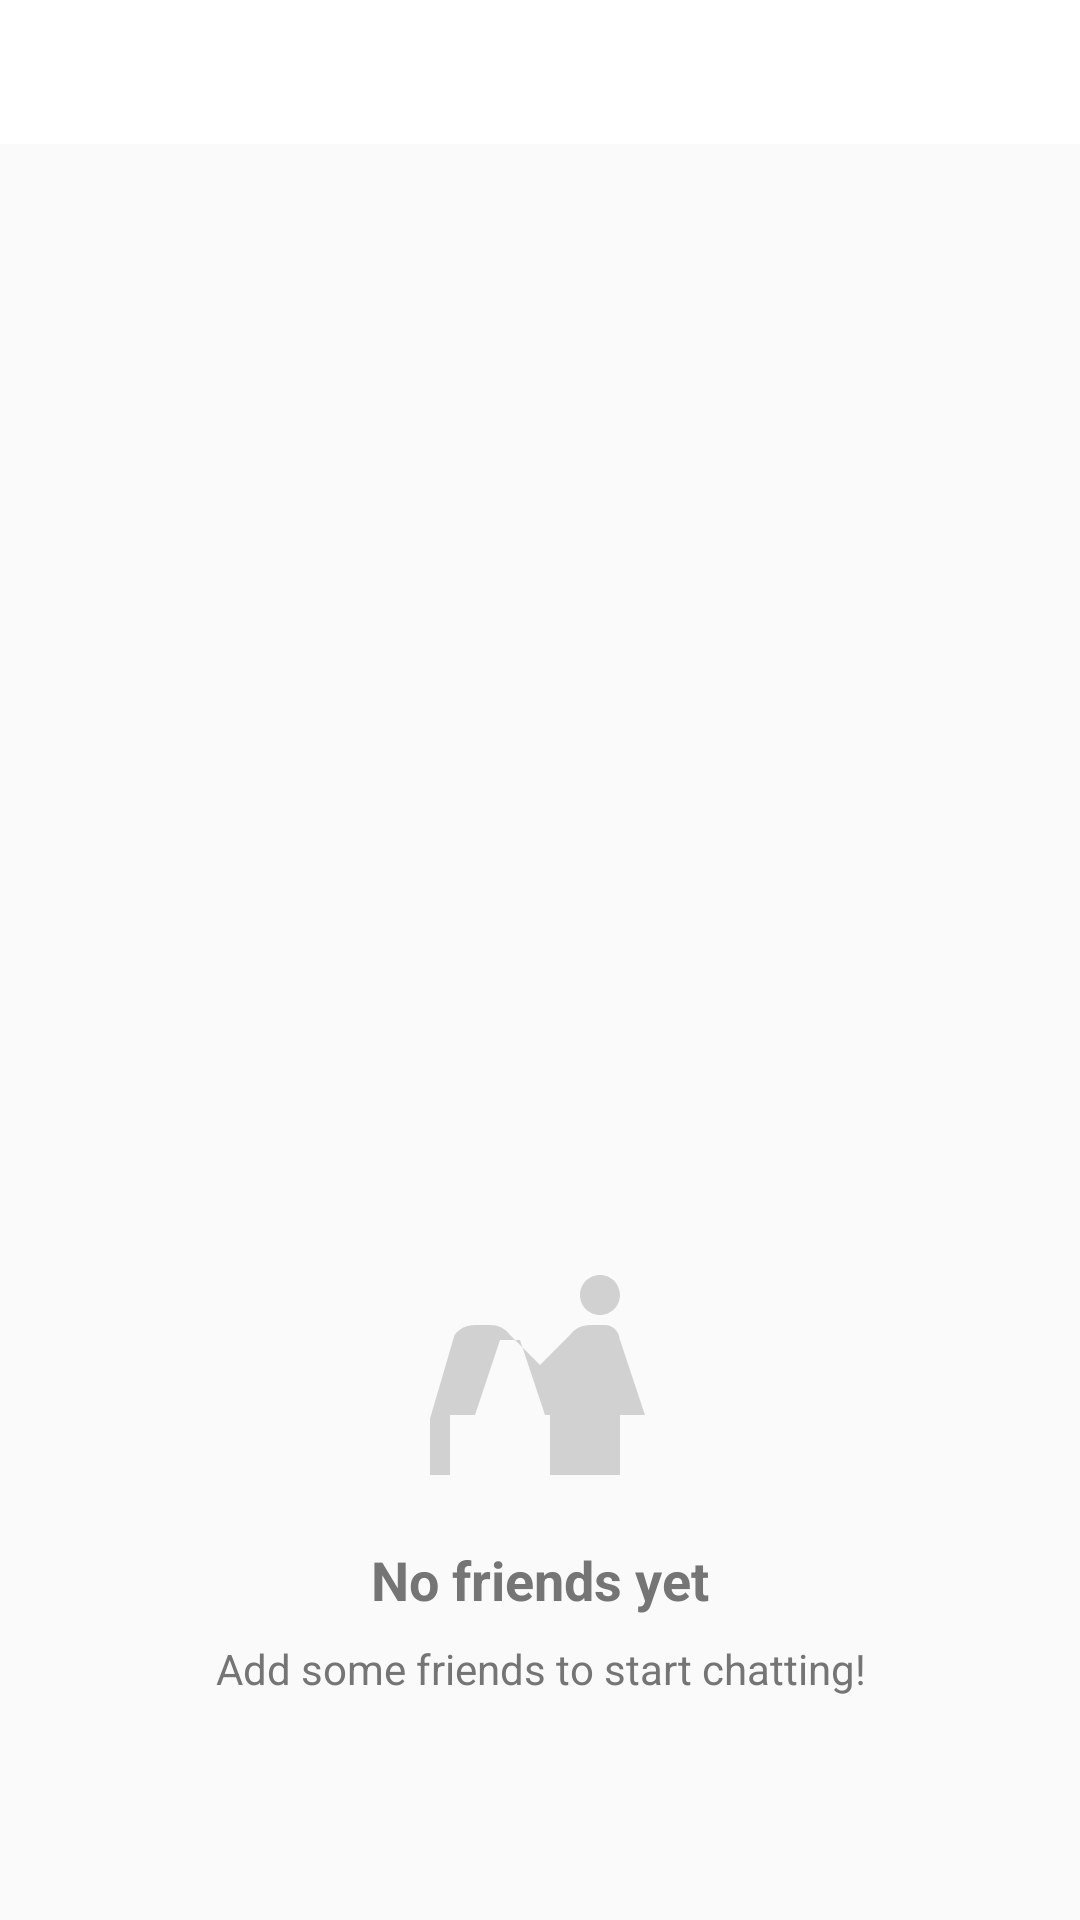

Screen size 1080px×1920px. Icon name, then its box in pixels as rect(x1, y1, x2, y2):
people: rect(430, 1275, 645, 1475)
